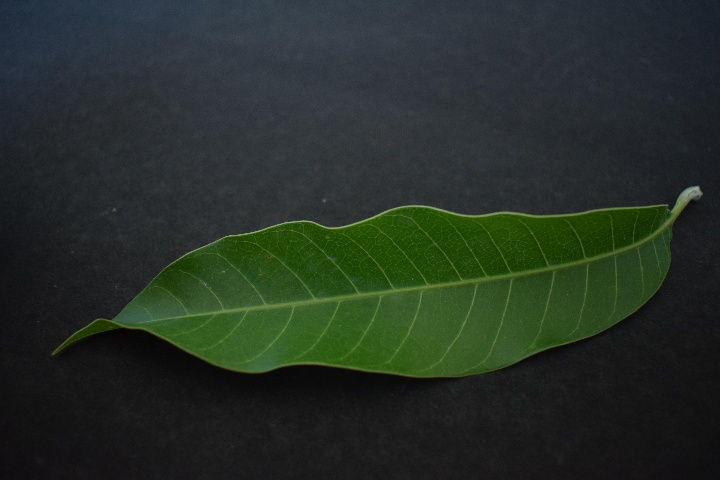healthy: (64, 199, 688, 365)
